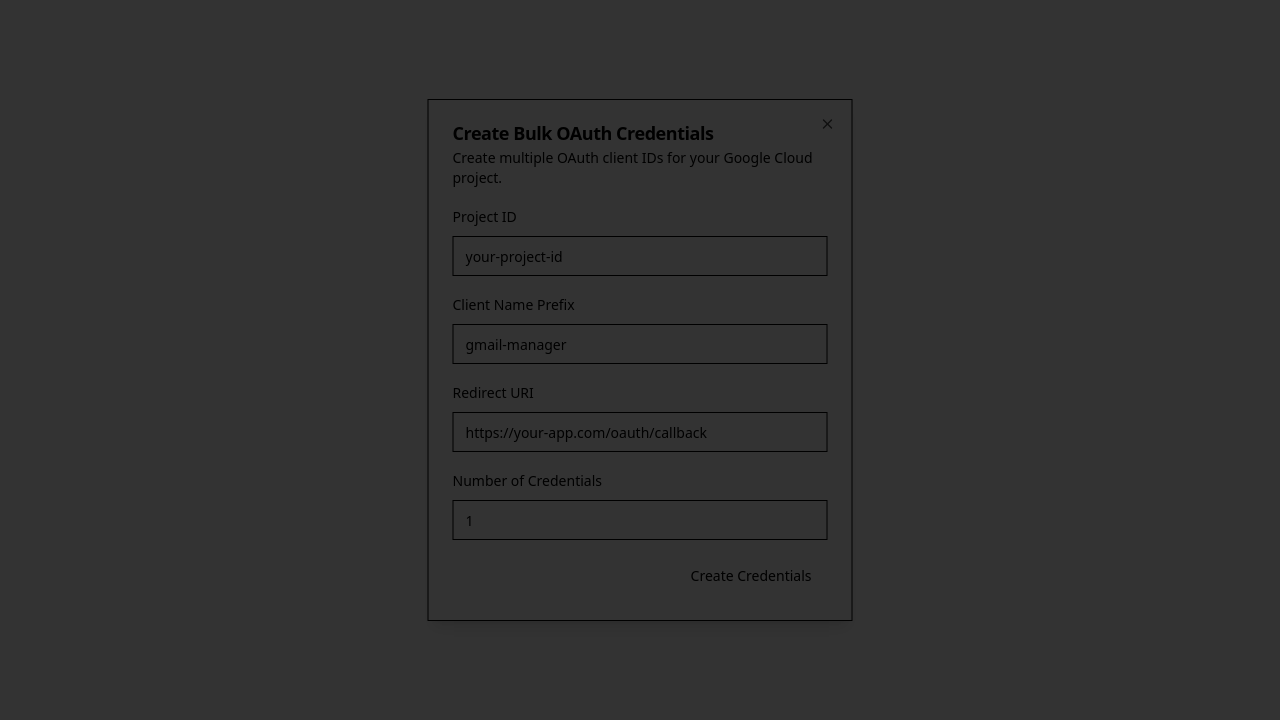
Test: BulkOAuthModal › validates form inputs
Click the button "Create Credentials" at {"x": 751, "y": 576}, box [675, 556, 828, 596]
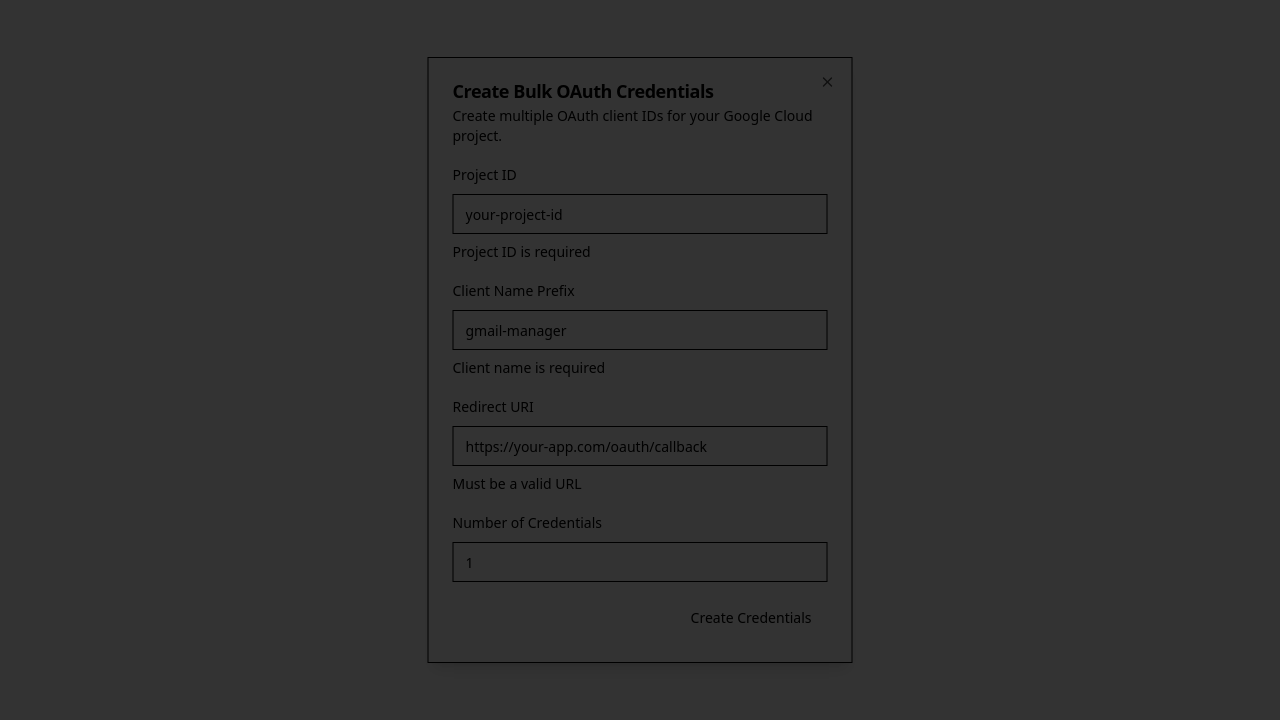
Expected: the text "Project ID is required" is shown, [452, 242, 591, 261]
Expected: the text "Client name is required" is shown, [452, 358, 605, 377]
